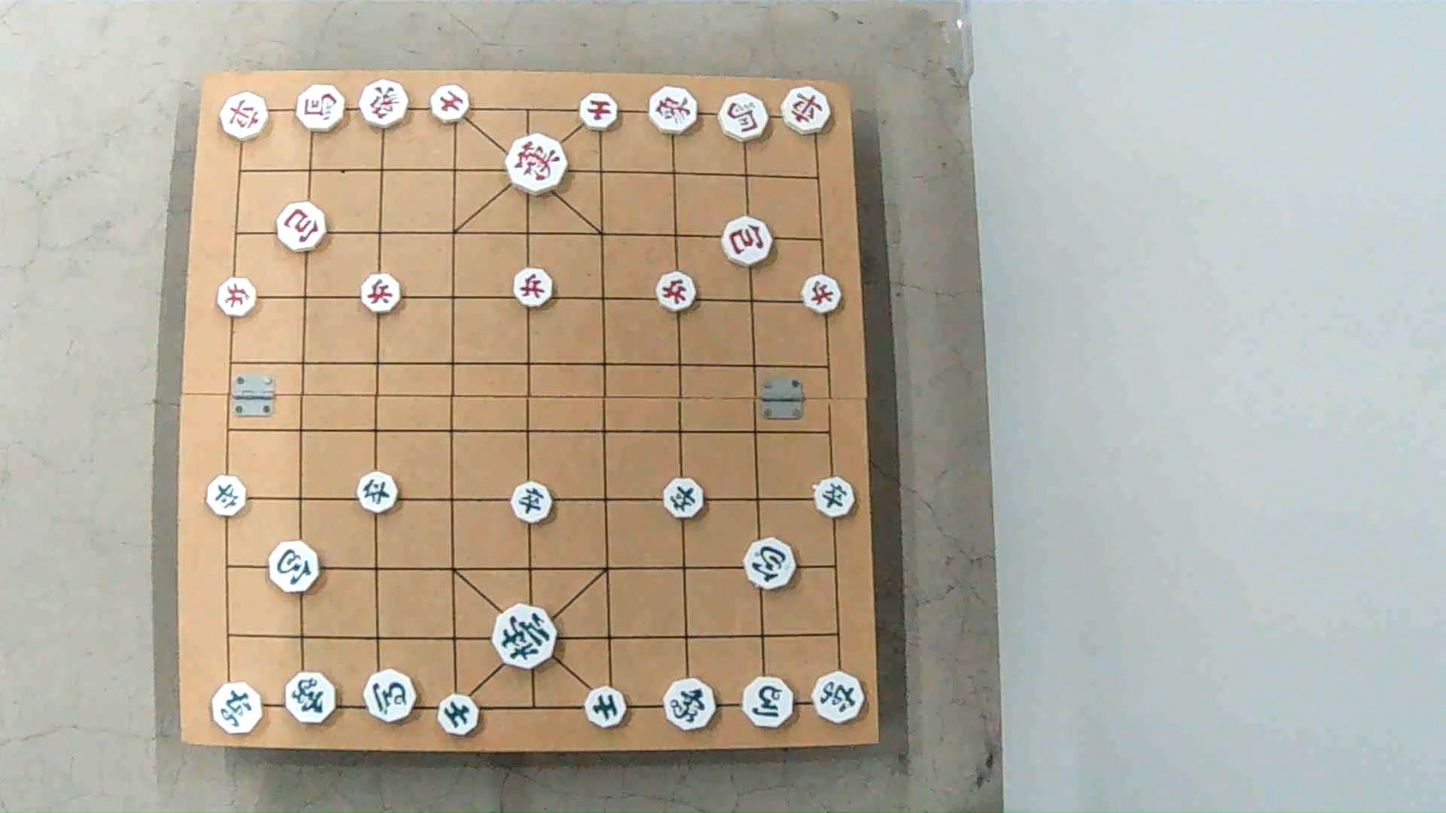cha_green: (813, 669, 865, 723), (212, 685, 264, 735)
cha_red: (781, 87, 831, 132), (220, 95, 269, 139)
jol_green: (358, 473, 401, 513), (509, 483, 553, 522), (660, 479, 702, 518), (208, 477, 249, 516), (810, 480, 853, 517)
jol_red: (516, 268, 557, 306), (655, 275, 696, 313), (362, 277, 402, 315), (219, 278, 260, 315), (800, 278, 841, 314)
ma_green: (363, 671, 416, 724), (740, 678, 795, 728)
ma_red: (297, 84, 346, 131), (720, 96, 770, 142)
po_green: (267, 544, 319, 593), (742, 541, 794, 589)
po_red: (725, 217, 777, 263), (278, 204, 328, 251)
sa_green: (436, 694, 479, 733), (587, 684, 624, 729)
sa_red: (430, 85, 470, 122), (577, 93, 618, 129)
sang_green: (663, 678, 718, 732), (287, 672, 337, 723)
sang_red: (648, 85, 698, 134), (357, 81, 409, 128)
wang_green: (491, 607, 556, 668)
wang_red: (508, 135, 569, 190)
